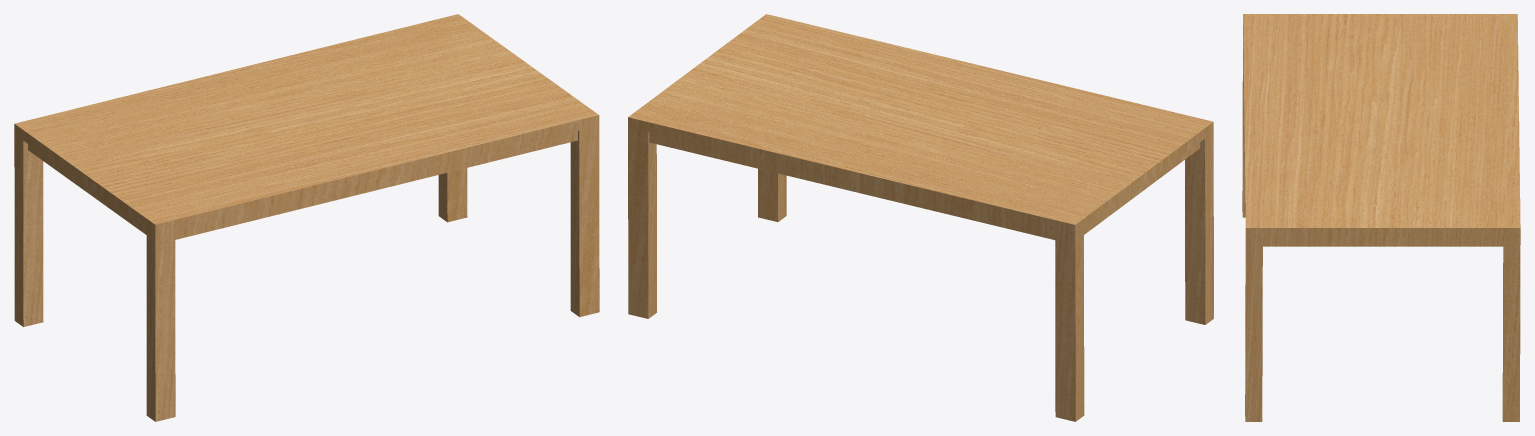
The model's file is IKE010002-Bjursta_Table_and_Roger_Chairs.FBX.
3 renders of one model, left to right at view 1: azimuth 30°, elevation 25°; view 2: azimuth 150°, elevation 25°; view 3: azimuth 270°, elevation 25°, orthographic.
Visible parts, largest first — view 1: Box01; view 2: Box01; view 3: Box01.
Boxes of the visible parts, left/top/right/bottom form: Box01: left=14, top=14, right=599, bottom=421; Box01: left=628, top=14, right=1213, bottom=421; Box01: left=1242, top=14, right=1520, bottom=421.
Size of the model in its own units: 1.76 by 0.9612 by 0.7422.
Materials: 1 (1 with a texture image).
